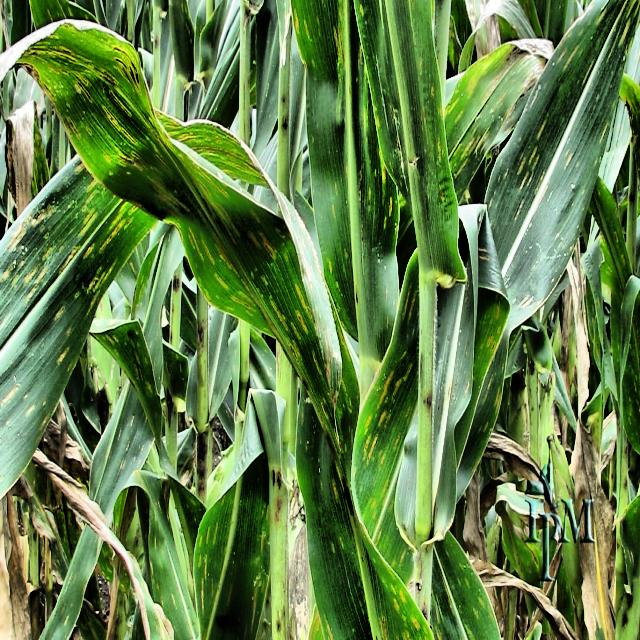gray_spot: (5, 13, 338, 447)
